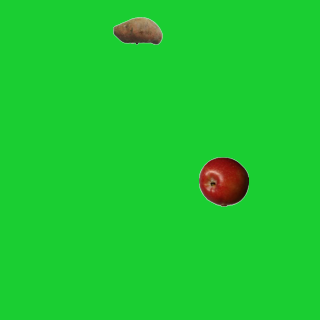Apple Braeburn: (198, 156, 248, 206)
Potato Sweet: (112, 5, 162, 55)
